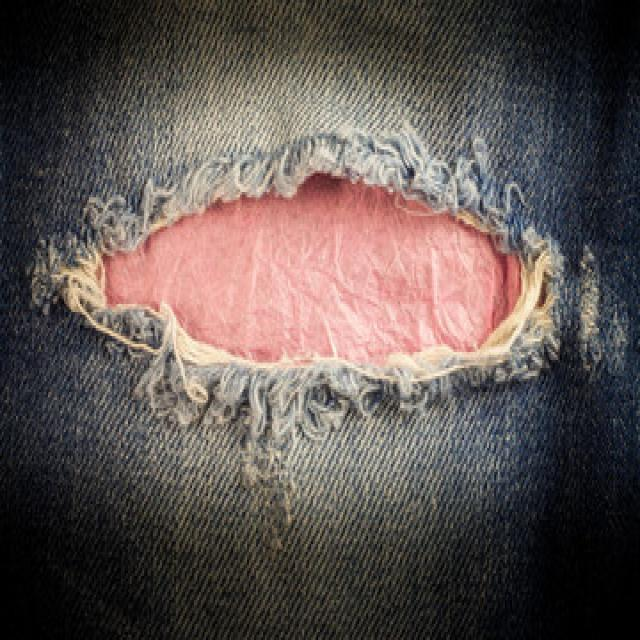Hole: (32, 128, 566, 522), (579, 245, 604, 372)
